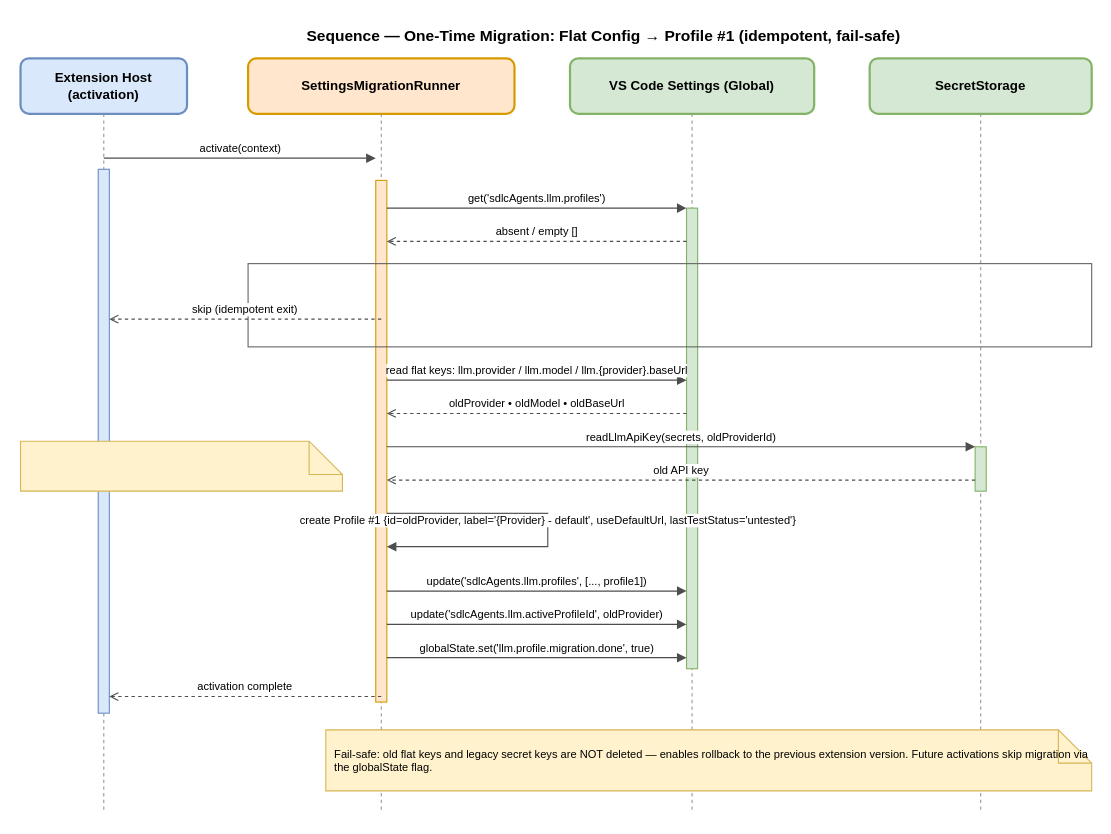
Image size: 1111x834. Some labels were removed from this diagram. The shapes that lost their labels are listed below. From the top down, each one's box as (x1, y1, x2, y2) in pixels, then its label:
(247, 263, 1092, 347): opt [profiles list already populated → already migrated]
(19, 440, 342, 491): readLlmApiKey auto-migrates legacy kiroSdlc.* key on first read
